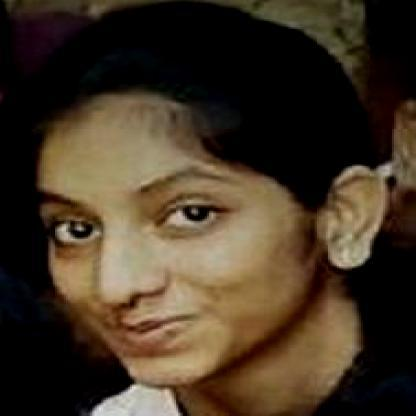without_mask: (35, 166, 302, 373)
